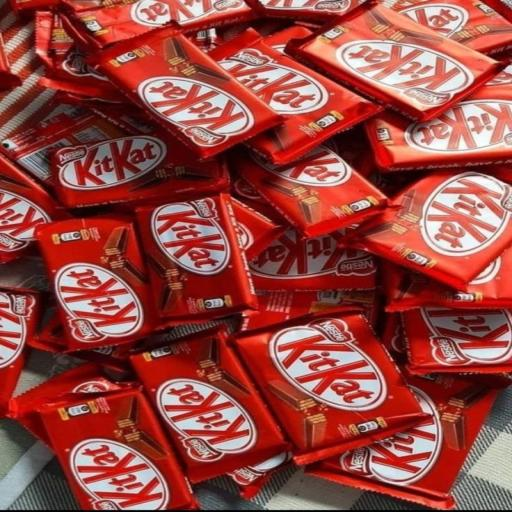kitkat: (216, 331, 502, 490)
